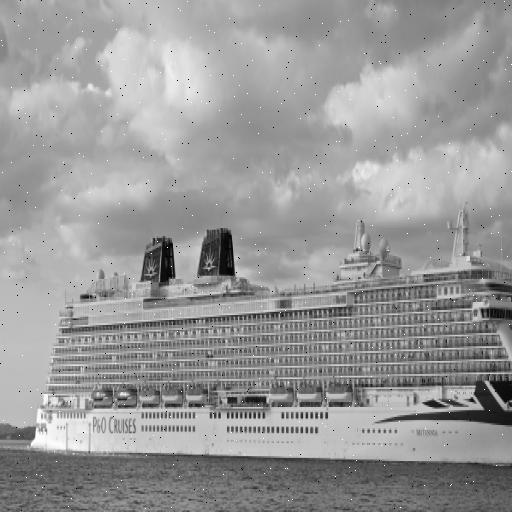cruises: (32, 206, 512, 478)
